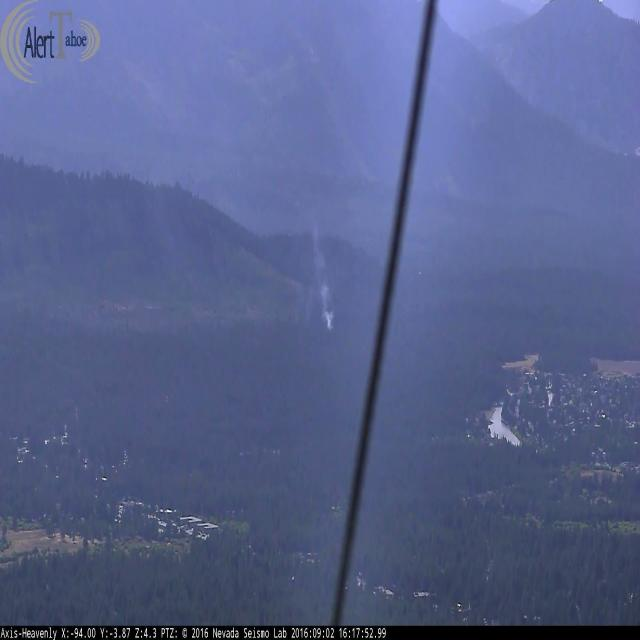smoke: (312, 237, 338, 330)
